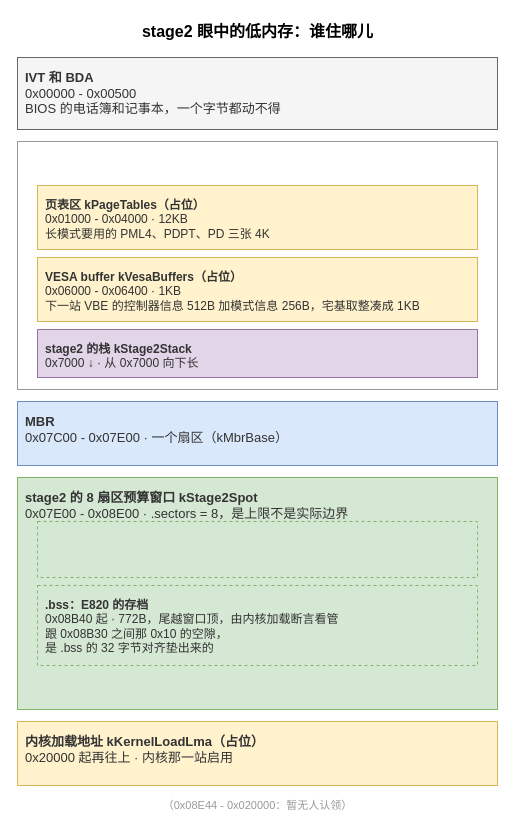
This 515x834 diagram has some shape labels left out. Here are the shapes that lost their labels. From the top down, the box of each, then its label:
(16, 140, 498, 390): 自由区 kLowFree 0x00500 - 0x07C00 · 低内存里真正没主的地
(36, 520, 478, 578): 镜像实际内容 0x08B30 止 · bin 实测 3376 字节
